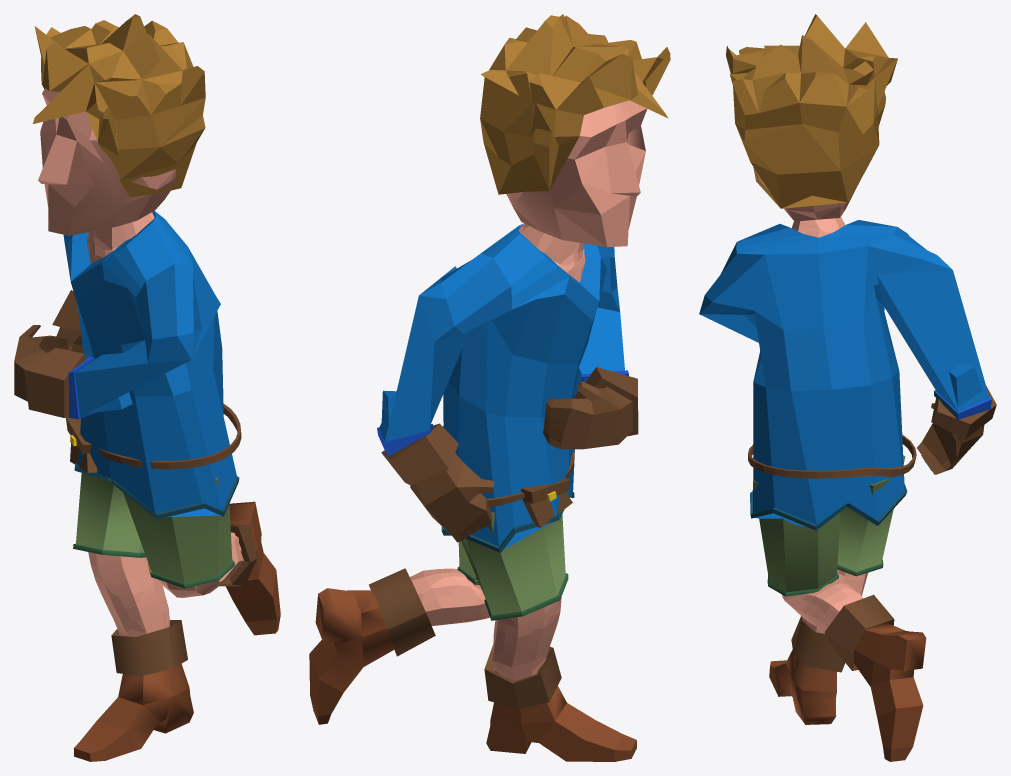
The model's file is runForwardLeft19.obj.
3 views of the same model, side by side, from view 1: azimuth 30°, elevation 25°; view 2: azimuth 150°, elevation 25°; view 3: azimuth 270°, elevation 25° (orthographic). The views are drawn at different scales.
Visible parts, largest first — view 1: Jacket__jaket_Cylinder.001_Jacket__jaket_Cylinder.001_P_e8d5c2c_, Hair_Hair__Cube.000_Hair_Hair__Cube.000_PlayerMaterialOfficial_H, Trausers_trausers_Cylinder.000_Trausers_trausers_Cylind_bfdf796_, Head_Head_Cube.000_Head_Head_Cube.000_PlayerMaterialOfficial_Hea, Boot_right_bota_Cube.000_Boot_right_bota_Cube.000_Playe_7d61669_, Humanoide_Body_Base_Modified_Humanoide_Base_Base_NPC__c_7f84192_, Boot_left_bota_Cube.001_Boot_left_bota_Cube.001_PlayerM_5d38611_, Globe_left_globe_Cylinder.001_Globe_left_globe_Cylinder_383ca3a_, Belt_Cylinder.001_Belt_Cylinder.001_PlayerMaterialOfficial_Belt_, Globe_right_globe_Cylinder.005_Globe_right_globe_Cylind_70ee9c7_, Bag_Cube_Cube.001_Bag_Cube_Cube.001_PlayerMaterialOfficial_Bag_C; view 2: Jacket__jaket_Cylinder.001_Jacket__jaket_Cylinder.001_P_e8d5c2c_, Hair_Hair__Cube.000_Hair_Hair__Cube.000_PlayerMaterialOfficial_H, Head_Head_Cube.000_Head_Head_Cube.000_PlayerMaterialOfficial_Hea, Boot_left_bota_Cube.001_Boot_left_bota_Cube.001_PlayerM_5d38611_, Boot_right_bota_Cube.000_Boot_right_bota_Cube.000_Playe_7d61669_, Humanoide_Body_Base_Modified_Humanoide_Base_Base_NPC__c_7f84192_, Trausers_trausers_Cylinder.000_Trausers_trausers_Cylind_bfdf796_, Globe_right_globe_Cylinder.005_Globe_right_globe_Cylind_70ee9c7_, Globe_left_globe_Cylinder.001_Globe_left_globe_Cylinder_383ca3a_, Bag_Cube_Cube.001_Bag_Cube_Cube.001_PlayerMaterialOfficial_Bag_C; view 3: Jacket__jaket_Cylinder.001_Jacket__jaket_Cylinder.001_P_e8d5c2c_, Hair_Hair__Cube.000_Hair_Hair__Cube.000_PlayerMaterialOfficial_H, Boot_left_bota_Cube.001_Boot_left_bota_Cube.001_PlayerM_5d38611_, Trausers_trausers_Cylinder.000_Trausers_trausers_Cylind_bfdf796_, Boot_right_bota_Cube.000_Boot_right_bota_Cube.000_Playe_7d61669_, Humanoide_Body_Base_Modified_Humanoide_Base_Base_NPC__c_7f84192_, Globe_right_globe_Cylinder.005_Globe_right_globe_Cylind_70ee9c7_, Belt_Cylinder.001_Belt_Cylinder.001_PlayerMaterialOfficial_Belt_, Head_Head_Cube.000_Head_Head_Cube.000_PlayerMaterialOfficial_Hea.
Part boxes in pixels (x1,y1,x2,y2): Jacket__jaket_Cylinder.001_Jacket__jaket_Cylinder.001_P_e8d5c2c_: [63, 211, 239, 519]; Hair_Hair__Cube.000_Hair_Hair__Cube.000_PlayerMaterialOfficial_H: [33, 14, 205, 197]; Trausers_trausers_Cylinder.000_Trausers_trausers_Cylind_bfdf796_: [73, 473, 234, 588]; Head_Head_Cube.000_Head_Head_Cube.000_PlayerMaterialOfficial_Hea: [38, 88, 176, 235]; Boot_right_bota_Cube.000_Boot_right_bota_Cube.000_Playe_7d61669_: [73, 620, 193, 761]; Humanoide_Body_Base_Modified_Humanoide_Base_Base_NPC__c_7f84192_: [86, 212, 243, 636]; Boot_left_bota_Cube.001_Boot_left_bota_Cube.001_PlayerM_5d38611_: [219, 501, 280, 635]; Globe_left_globe_Cylinder.001_Globe_left_globe_Cylinder_383ca3a_: [14, 325, 86, 417]; Belt_Cylinder.001_Belt_Cylinder.001_PlayerMaterialOfficial_Belt_: [98, 404, 241, 469]; Globe_right_globe_Cylinder.005_Globe_right_globe_Cylind_70ee9c7_: [52, 290, 83, 353]; Bag_Cube_Cube.001_Bag_Cube_Cube.001_PlayerMaterialOfficial_Bag_C: [66, 418, 97, 472]; Jacket__jaket_Cylinder.001_Jacket__jaket_Cylinder.001_P_e8d5c2c_: [377, 224, 628, 552]; Hair_Hair__Cube.000_Hair_Hair__Cube.000_PlayerMaterialOfficial_H: [480, 14, 670, 194]; Head_Head_Cube.000_Head_Head_Cube.000_PlayerMaterialOfficial_Hea: [506, 100, 647, 247]; Boot_left_bota_Cube.001_Boot_left_bota_Cube.001_PlayerM_5d38611_: [309, 568, 435, 724]; Boot_right_bota_Cube.000_Boot_right_bota_Cube.000_Playe_7d61669_: [484, 645, 636, 761]; Humanoide_Body_Base_Modified_Humanoide_Base_Base_NPC__c_7f84192_: [410, 223, 585, 681]; Trausers_trausers_Cylinder.000_Trausers_trausers_Cylind_bfdf796_: [457, 512, 568, 620]; Globe_right_globe_Cylinder.005_Globe_right_globe_Cylind_70ee9c7_: [381, 423, 494, 542]; Globe_left_globe_Cylinder.001_Globe_left_globe_Cylinder_383ca3a_: [543, 367, 638, 449]; Bag_Cube_Cube.001_Bag_Cube_Cube.001_PlayerMaterialOfficial_Bag_C: [521, 477, 572, 527]; Jacket__jaket_Cylinder.001_Jacket__jaket_Cylinder.001_P_e8d5c2c_: [699, 220, 991, 530]; Hair_Hair__Cube.000_Hair_Hair__Cube.000_PlayerMaterialOfficial_H: [726, 14, 897, 208]; Boot_left_bota_Cube.001_Boot_left_bota_Cube.001_PlayerM_5d38611_: [824, 594, 926, 761]; Trausers_trausers_Cylinder.000_Trausers_trausers_Cylind_bfdf796_: [753, 455, 905, 596]; Boot_right_bota_Cube.000_Boot_right_bota_Cube.000_Playe_7d61669_: [769, 616, 844, 724]; Humanoide_Body_Base_Modified_Humanoide_Base_Base_NPC__c_7f84192_: [781, 217, 867, 633]; Globe_right_globe_Cylinder.005_Globe_right_globe_Cylind_70ee9c7_: [917, 385, 996, 474]; Belt_Cylinder.001_Belt_Cylinder.001_PlayerMaterialOfficial_Belt_: [748, 435, 916, 478]; Head_Head_Cube.000_Head_Head_Cube.000_PlayerMaterialOfficial_Hea: [756, 172, 860, 221].
Bounding box in the file's own units: 17.03 × 39.17 × 15.86.
